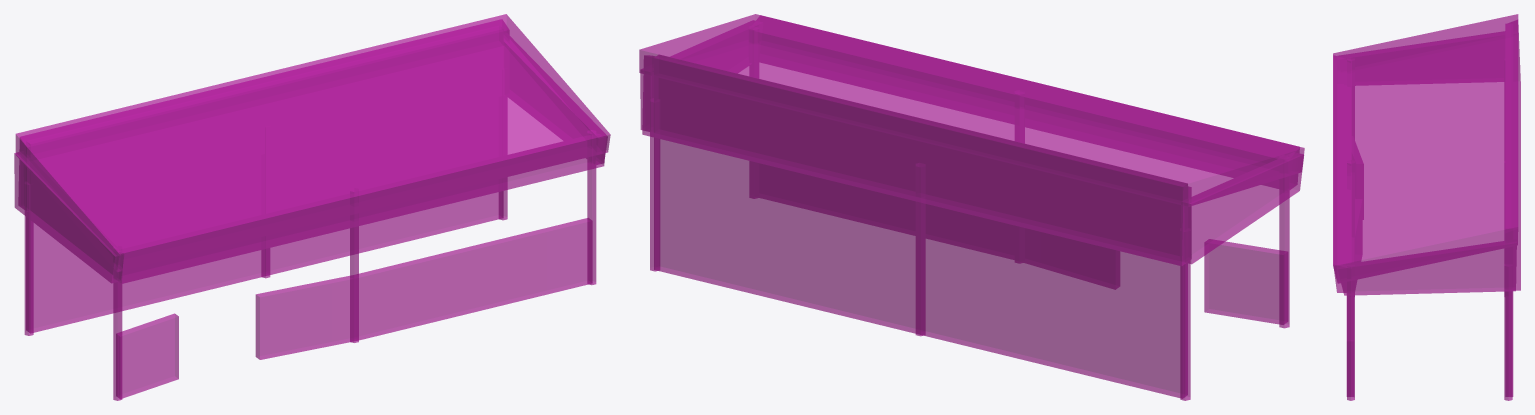
File: SM_Prop_Stall_03_Damaged_01_Collision.fbx
The picture shows the model from 3 angles, left to right: view 1: azimuth 30°, elevation 25°; view 2: azimuth 150°, elevation 25°; view 3: azimuth 270°, elevation 25°; orthographic projection. The views are drawn at different scales.
Visible parts, largest first — view 1: SM_Prop_Stall_03_Damaged_01_Collision; view 2: SM_Prop_Stall_03_Damaged_01_Collision; view 3: SM_Prop_Stall_03_Damaged_01_Collision.
Part boxes in pixels (left/top/right/bottom): SM_Prop_Stall_03_Damaged_01_Collision: left=14, top=14, right=610, bottom=400; SM_Prop_Stall_03_Damaged_01_Collision: left=639, top=14, right=1304, bottom=400; SM_Prop_Stall_03_Damaged_01_Collision: left=1333, top=14, right=1520, bottom=400.
Size of the model in its own units: 772 by 296 by 286.
